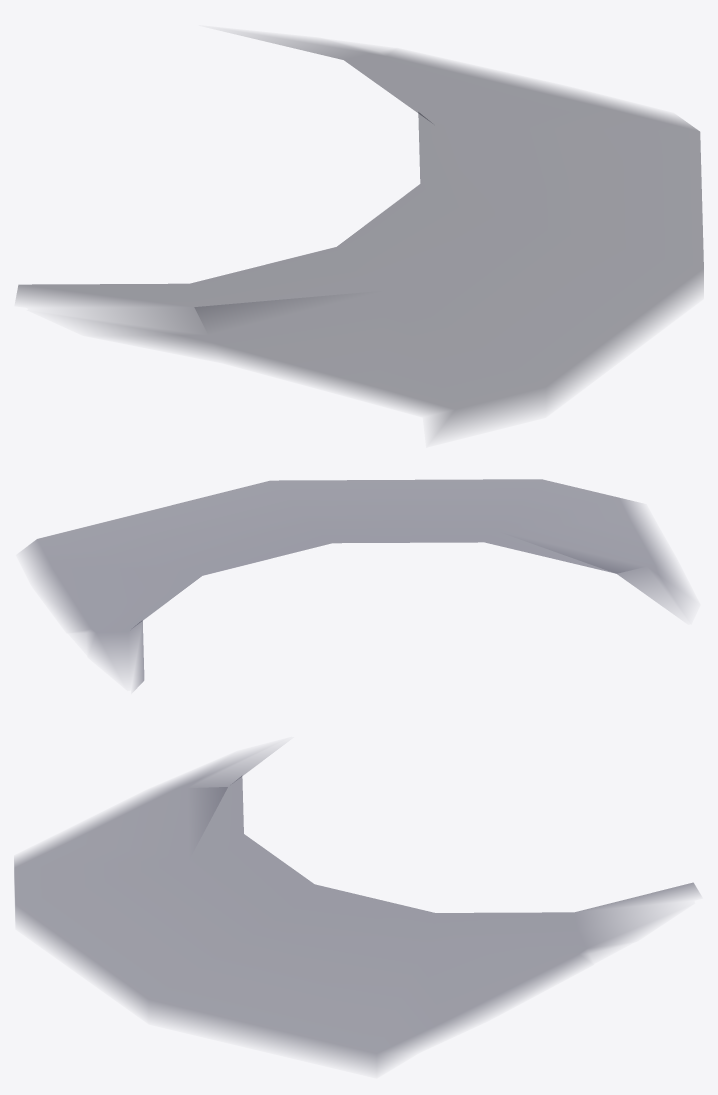
3 renders of one model, top to bottom at view 1: azimuth 30°, elevation 25°; view 2: azimuth 150°, elevation 25°; view 3: azimuth 270°, elevation 25°, orthographic. The views are drawn at different scales.
Visible parts, largest first — view 1: Joint_0_Object_0; view 2: Joint_0_Object_0; view 3: Joint_0_Object_0.
Part boxes in pixels (<box>): Joint_0_Object_0: <box>16,34,703,435</box>; Joint_0_Object_0: <box>23,479,686,688</box>; Joint_0_Object_0: <box>14,750,699,1070</box>.
Size of the model in its own units: 374 by 42.38 by 376.
Materials: 1 (1 with a texture image).
